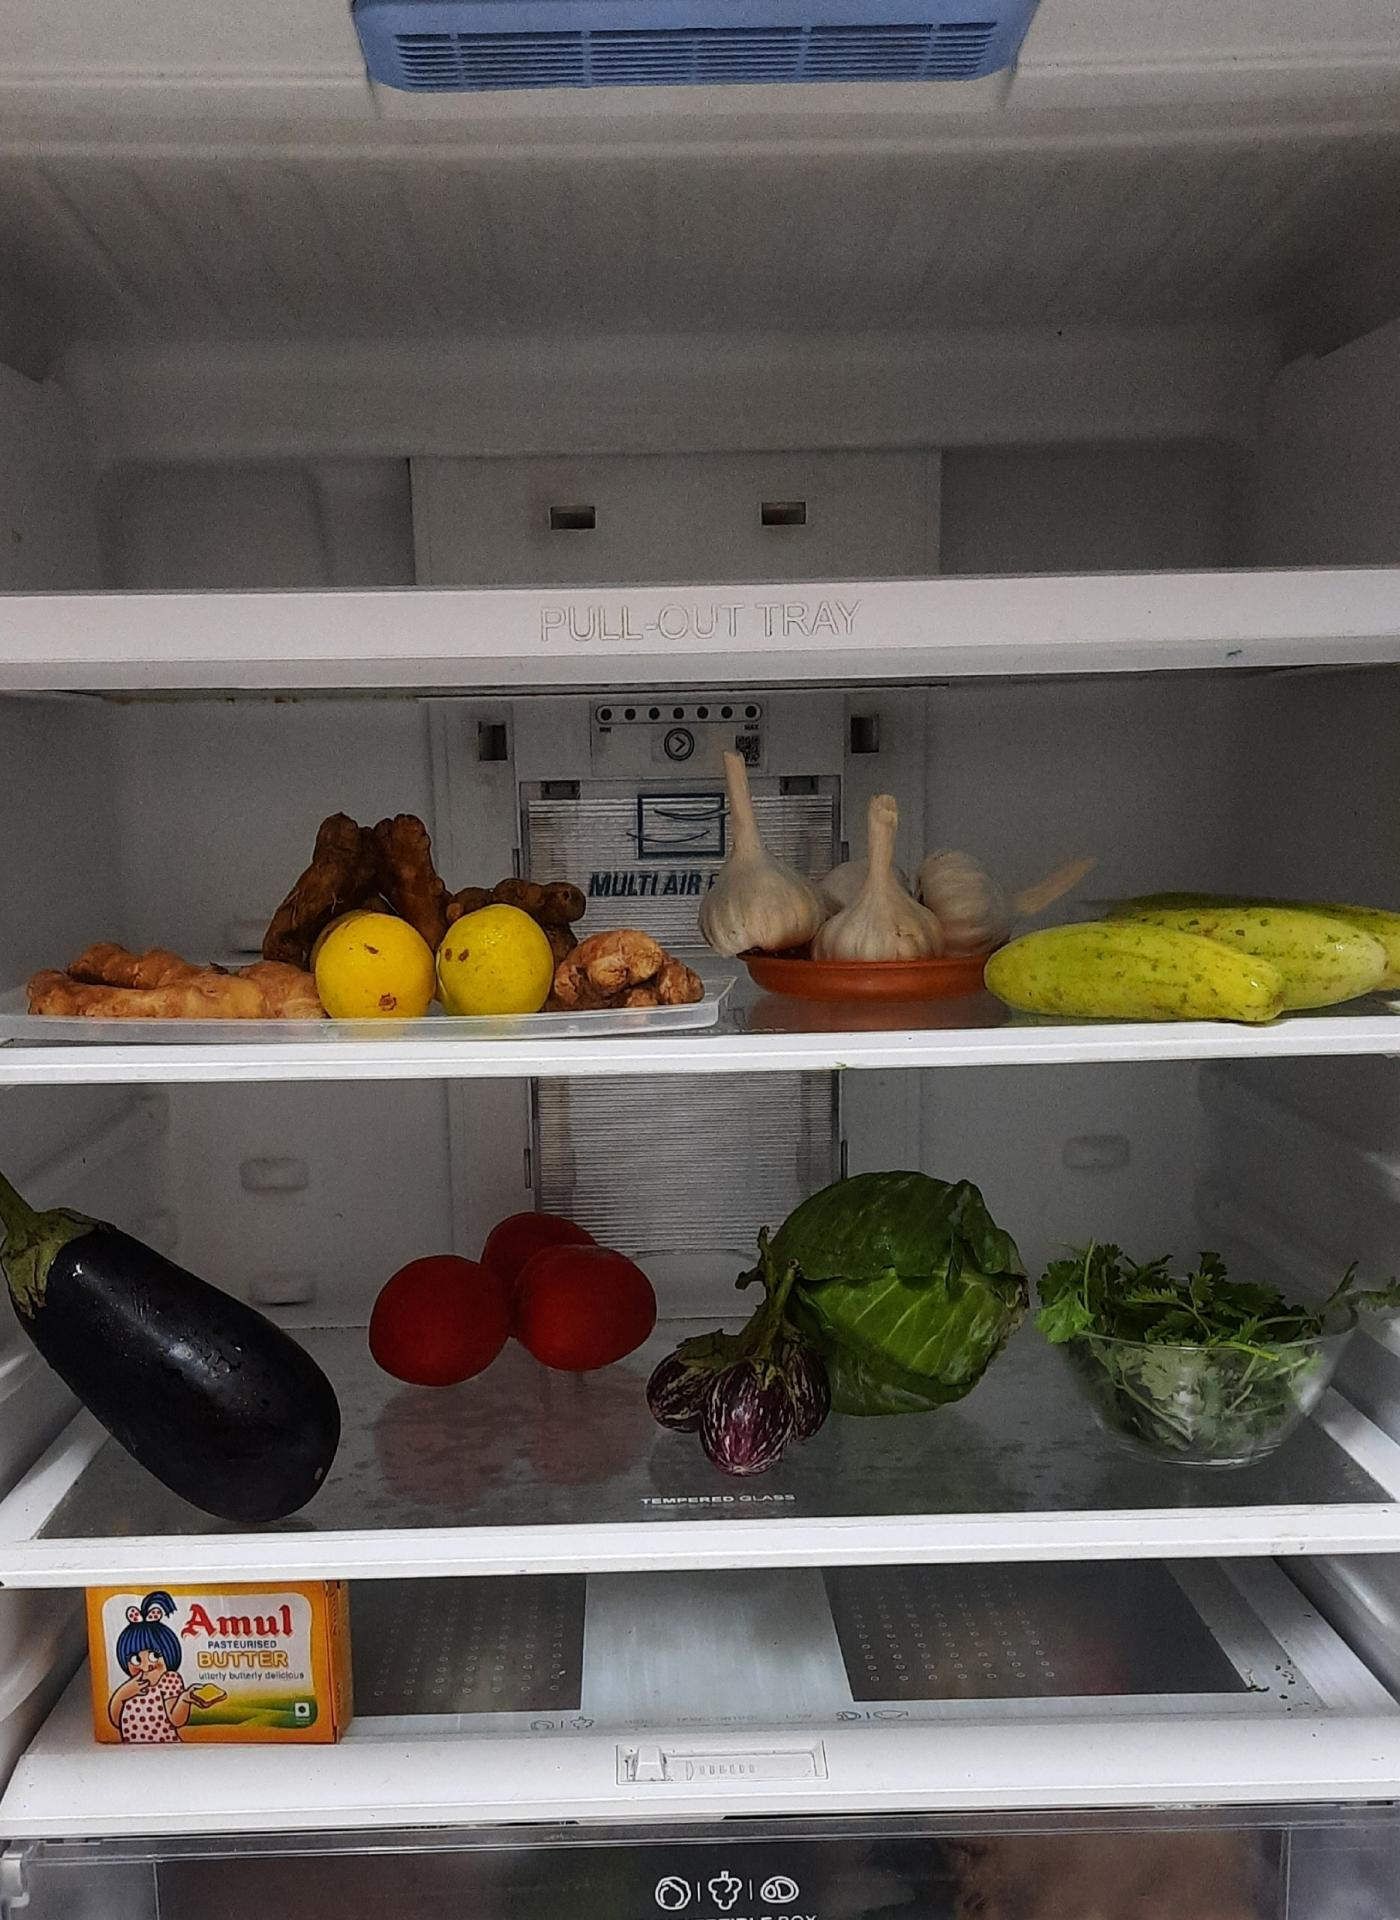brinjal: (0, 1151, 356, 1526), (641, 1264, 845, 1486)
butter: (85, 1586, 352, 1746)
cabbage: (756, 1176, 1030, 1416)
coriander: (1051, 1254, 1331, 1471)
cucumber: (987, 882, 1400, 1021)
garlic: (699, 747, 994, 961)
ginger: (261, 811, 574, 969), (25, 924, 322, 1026), (553, 929, 707, 1011)
lemon: (322, 917, 564, 1024)
tomato: (365, 1215, 655, 1382)
